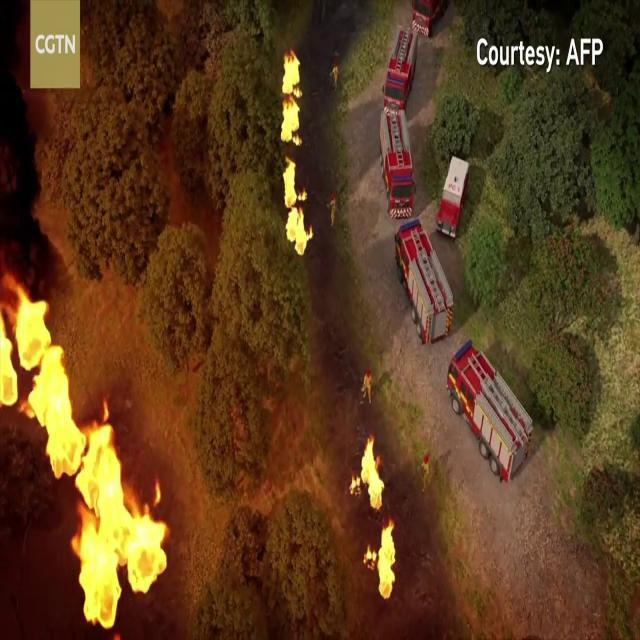Fire: (0, 257, 170, 631), (350, 420, 398, 604)
Smoke: (0, 0, 46, 271)
